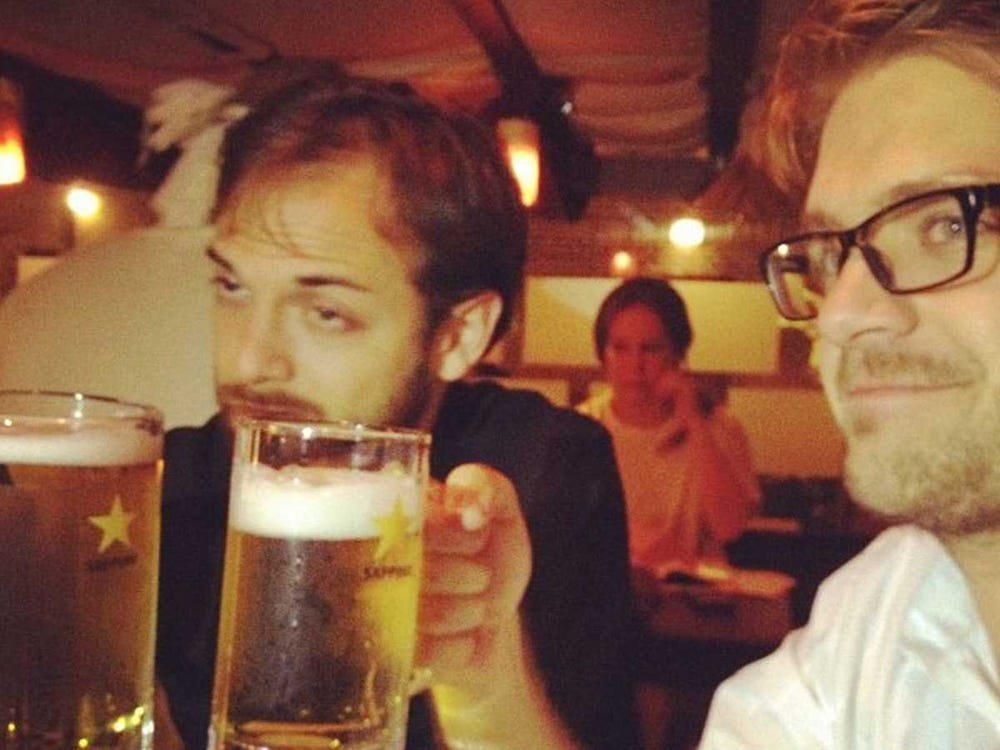Drunk: (204, 160, 417, 439)
